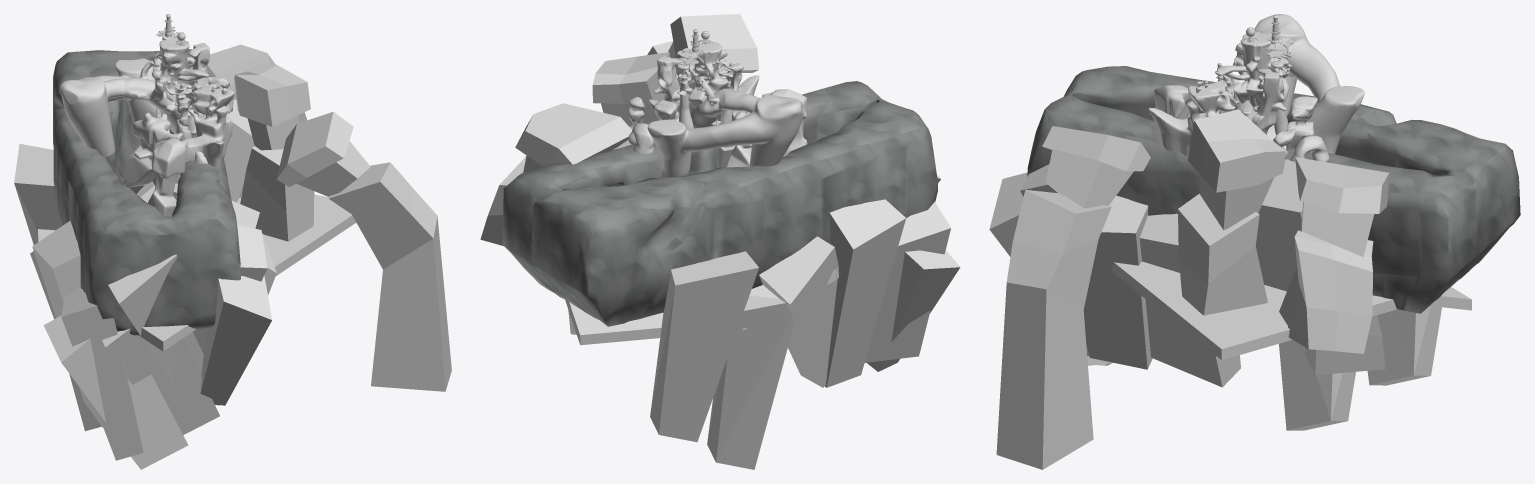
The model's file is GD_lvl_Test.glb.
3 renders of one model, left to right at view 1: azimuth 30°, elevation 25°; view 2: azimuth 150°, elevation 25°; view 3: azimuth 270°, elevation 25°, orthographic. The views are drawn at different scales.
Visible parts, largest first — view 1: Cube.055, Cube.059, Cube.053, Cylinder.034, Cube.060, Cube.062, Cube.068, Cube.066, Cube.077, Cube.054, Cube.072, Cube.064 (+10 smaller); view 2: Cube.055, Cube.064, Cube.065, Cube.061, Cylinder.034, Cube.063, Cube.073, Cube.062, Cube.068, Cube.053, Cube.059, Cube.054 (+6 smaller); view 3: Cube.055, Cube.059, Cube.053, Cube.073, Cube.057, Cube.054, Cylinder.034, Cube.058, Cube.065, Cube.076, Cube.064, Cube.046 (+8 smaller).
Boxes of the visible parts, bbox=[...] form: Cube.055: bbox=[53, 49, 240, 335]; Cube.059: bbox=[276, 111, 451, 391]; Cube.053: bbox=[234, 62, 314, 241]; Cylinder.034: bbox=[59, 58, 196, 157]; Cube.060: bbox=[200, 275, 271, 405]; Cube.062: bbox=[61, 287, 143, 460]; Cube.068: bbox=[43, 315, 188, 469]; Cube.066: bbox=[102, 328, 219, 434]; Cube.077: bbox=[118, 112, 207, 216]; Cube.054: bbox=[137, 181, 356, 351]; Cube.072: bbox=[108, 254, 203, 384]; Cube.064: bbox=[14, 144, 62, 244]; Cube.055: bbox=[502, 81, 937, 326]; Cube.064: bbox=[650, 251, 758, 442]; Cube.065: bbox=[707, 295, 794, 469]; Cube.061: bbox=[825, 199, 906, 387]; Cylinder.034: bbox=[647, 63, 803, 177]; Cube.063: bbox=[759, 236, 838, 387]; Cube.073: bbox=[480, 103, 631, 245]; Cube.062: bbox=[864, 202, 950, 362]; Cube.068: bbox=[866, 250, 960, 371]; Cube.053: bbox=[592, 52, 669, 125]; Cube.059: bbox=[647, 14, 758, 112]; Cube.054: bbox=[565, 268, 838, 345]; Cube.055: bbox=[1027, 66, 1520, 313]; Cube.059: bbox=[996, 126, 1150, 469]; Cube.053: bbox=[1178, 109, 1286, 315]; Cube.073: bbox=[1279, 157, 1389, 353]; Cube.057: bbox=[1083, 195, 1152, 369]; Cube.054: bbox=[1111, 261, 1471, 359]; Cylinder.034: bbox=[1234, 14, 1364, 154]; Cube.058: bbox=[1139, 213, 1240, 387]; Cube.065: bbox=[1279, 340, 1355, 430]; Cube.076: bbox=[1256, 159, 1302, 291]; Cube.064: bbox=[1367, 306, 1441, 385]; Cube.046: bbox=[1148, 80, 1235, 156].
Size of the model in its own units: 613 by 659 by 700.
1 material, 1 textured.
